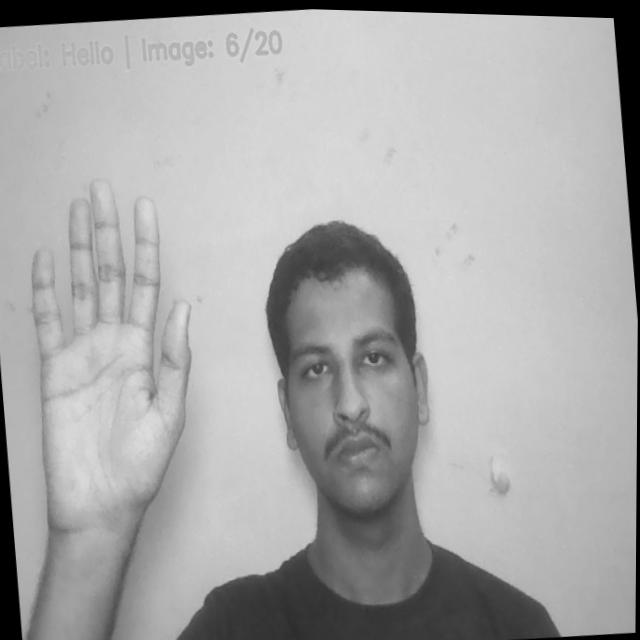Hello: (14, 162, 220, 537)
